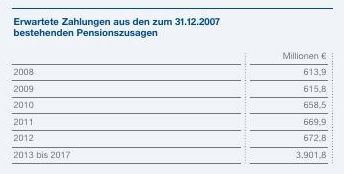table: (0, 0, 344, 174)
